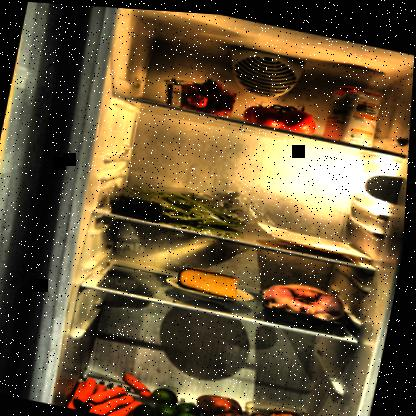blueberries: (109, 189, 173, 223)
carrot: (67, 358, 164, 415)
cheese: (175, 258, 245, 298)
chicken: (258, 272, 359, 331)
green_beans: (119, 171, 252, 229)
lime: (135, 379, 213, 415)
potato: (251, 397, 336, 415)
strawberries: (159, 66, 240, 117)
sweet_potato: (176, 383, 276, 415)
tomato: (241, 90, 322, 135)
